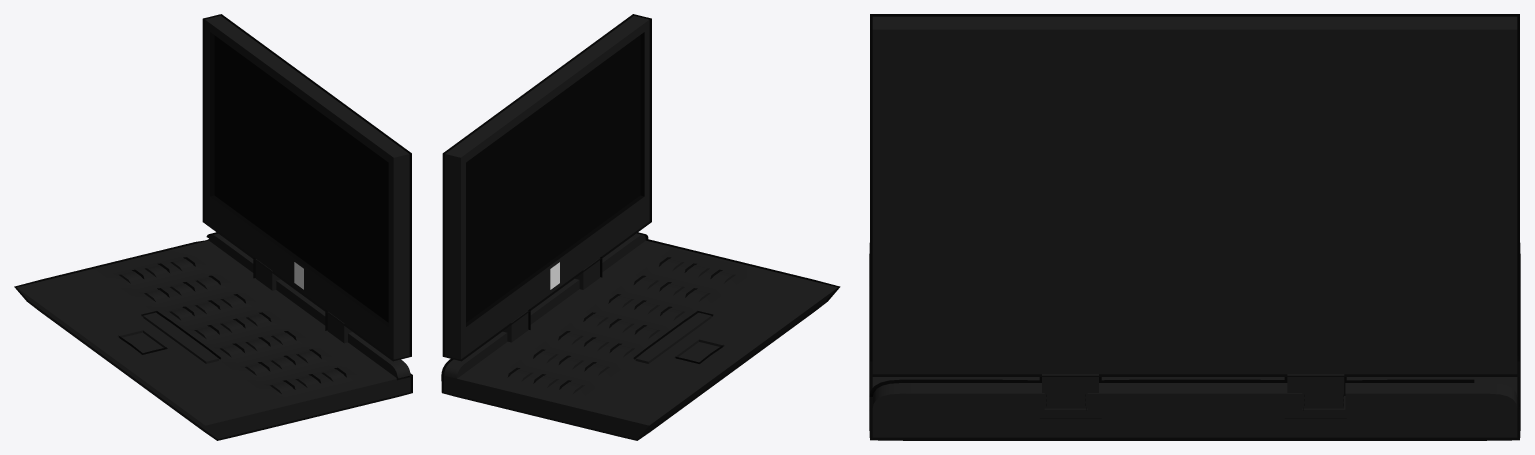
Rendered from laptop.FBX.
The picture shows the model from 3 angles, left to right: view 1: azimuth 30°, elevation 25°; view 2: azimuth 150°, elevation 25°; view 3: azimuth 270°, elevation 25°; orthographic projection. The views are drawn at different scales.
Parts seen in each view (by area): view 1: Box001, Box002; view 2: Box001, Box002; view 3: Box001, Box002.
Boxes of the visible parts, bbox=[...] form: Box001: bbox=[17, 15, 410, 438]; Box002: bbox=[14, 14, 412, 440]; Box001: bbox=[444, 16, 837, 438]; Box002: bbox=[441, 14, 840, 440]; Box001: bbox=[872, 16, 1517, 437]; Box002: bbox=[869, 14, 1520, 440].
Bounding box in the file's own units: 31.38 × 34.36 × 49.35.
Materials: 3 (1 with a texture image).
